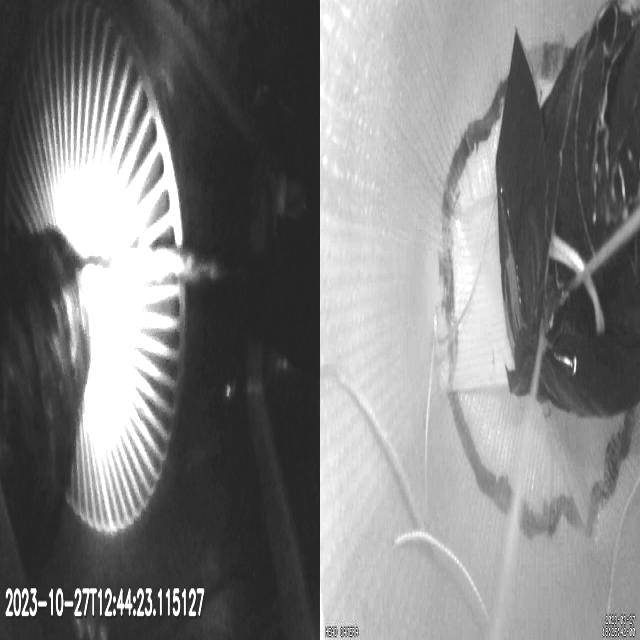red-circle: (439, 34, 640, 533)
